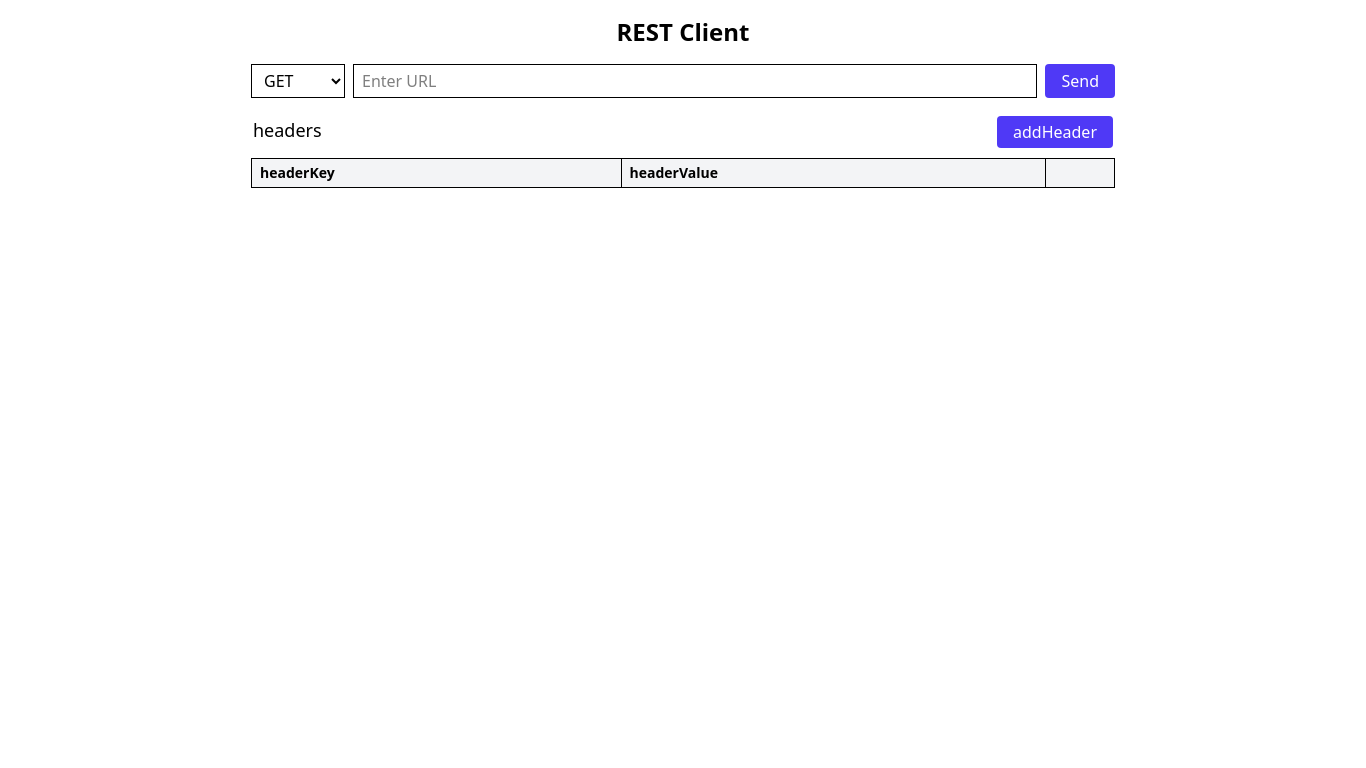
Test: RestClientForm › обрабатывает ошибку при fetch
This screenshot has width=1366, height=768.
Type "https://fail.test" into the search field with placeholder "Enter URL".
click(695, 81); type("https://fail.test")  # box [353, 64, 1038, 98]
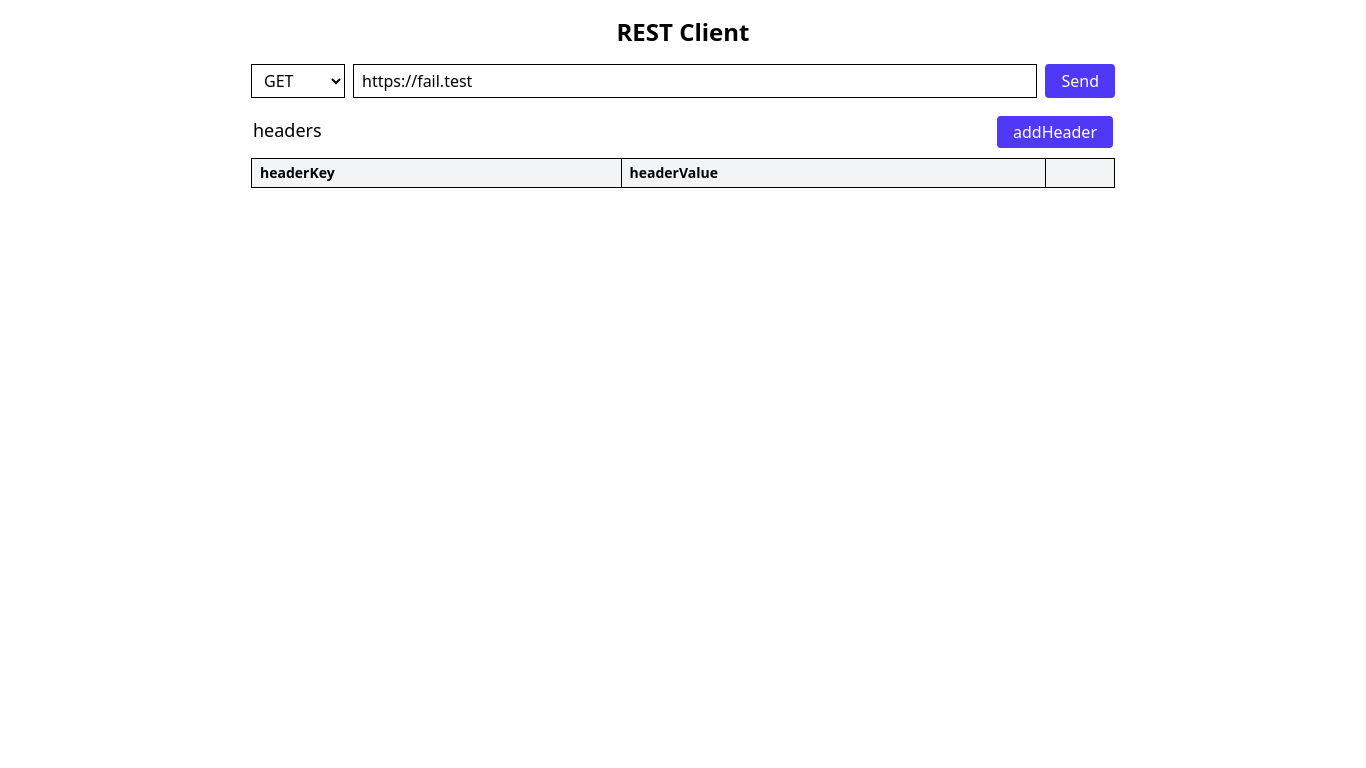
Click the button "Send".
click(1080, 81)  # box [1046, 64, 1115, 98]
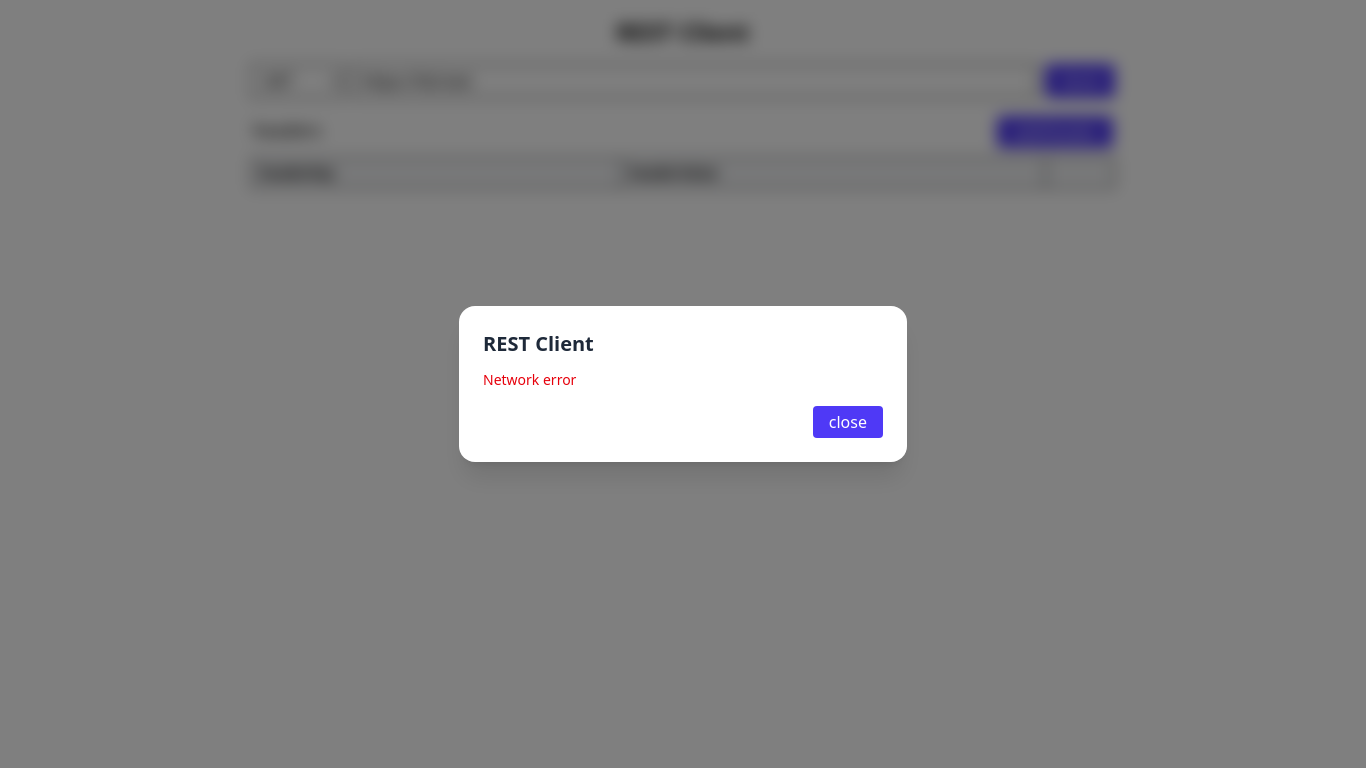
Now the text "Network error" is shown, box [483, 370, 576, 389]
